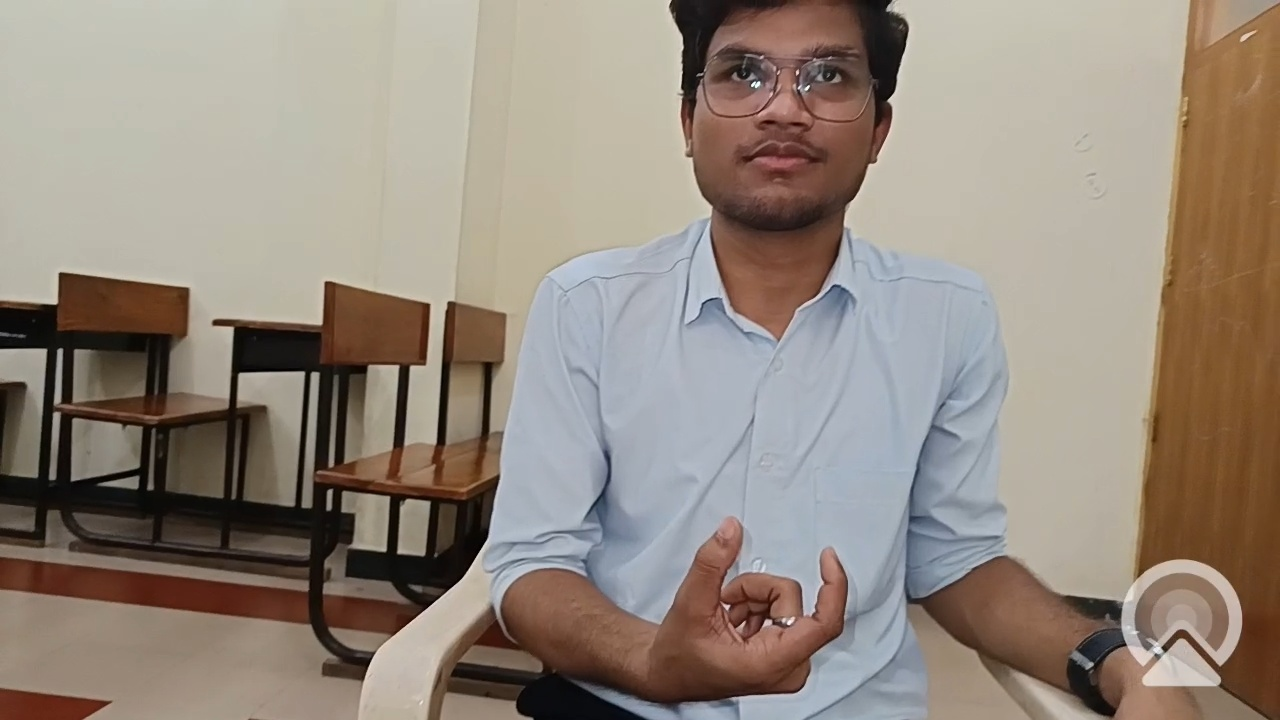U: (629, 465, 885, 720)
